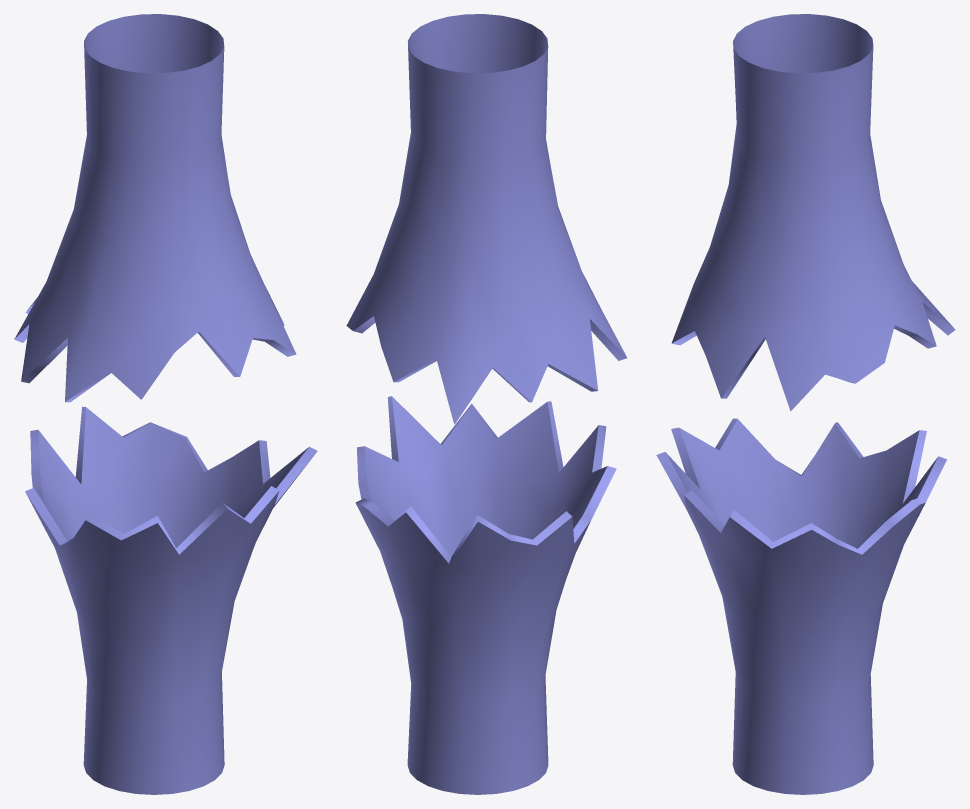
Rendered from pipe_burst_low.fbx.
3 renders of one model, left to right at view 1: azimuth 30°, elevation 25°; view 2: azimuth 150°, elevation 25°; view 3: azimuth 270°, elevation 25°, orthographic.
Parts seen in each view (by area): view 1: pipe_burst_low; view 2: pipe_burst_low; view 3: pipe_burst_low.
Part boxes in pixels (left/top/right/bottom): pipe_burst_low: left=14, top=14, right=317, bottom=794; pipe_burst_low: left=346, top=14, right=627, bottom=794; pipe_burst_low: left=656, top=14, right=955, bottom=794.
Bounding box in the file's own units: 221 × 600 × 226.
